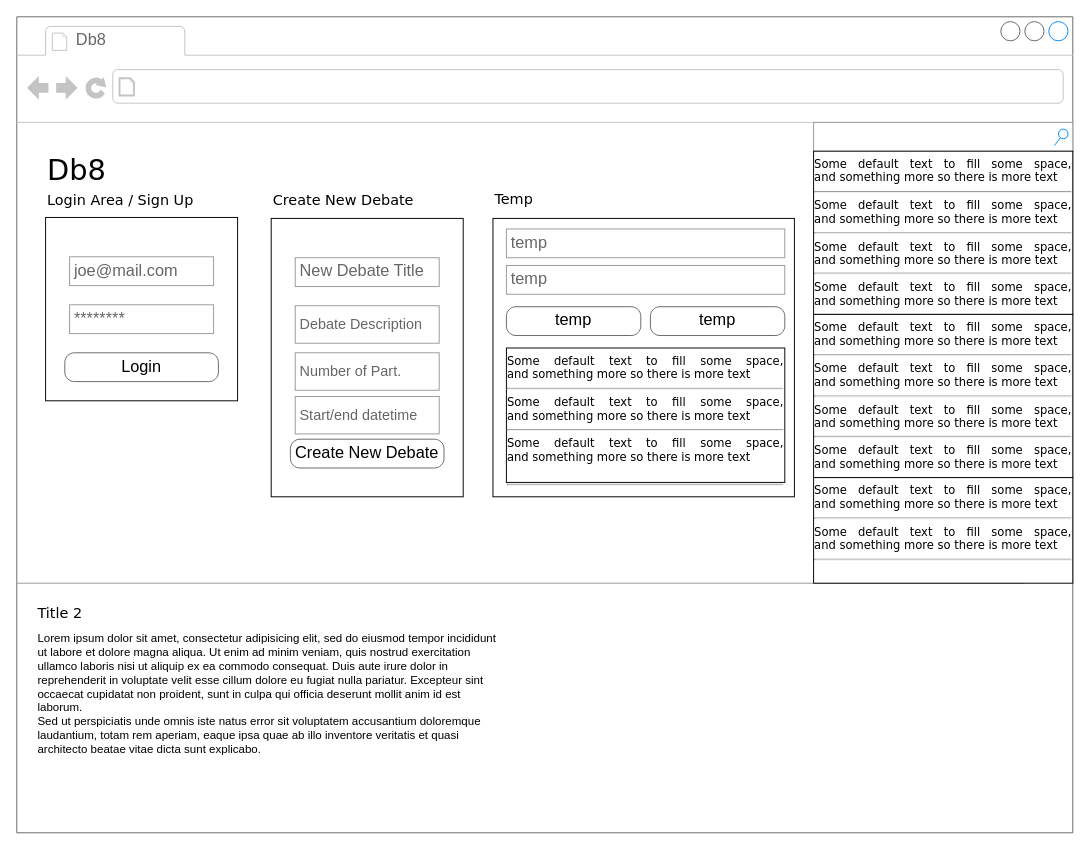
Some shapes in this 1090 by 850 pixel diagram are drawn without their labels. Here are the shapes that lost their labels. From the top down, the centre of each, then its label:
At pixel 261 86: "https://www.db8.com".
At pixel 943 136: "Search Past Debates".
